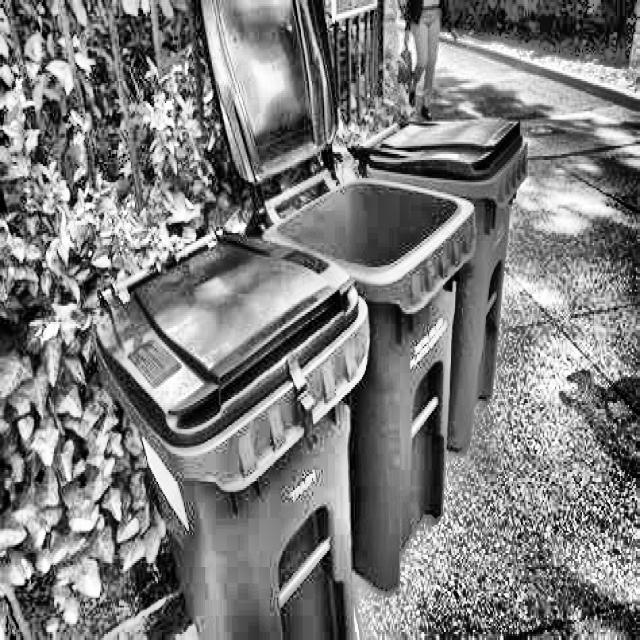wastebin: (203, 0, 476, 600), (80, 206, 373, 638)
